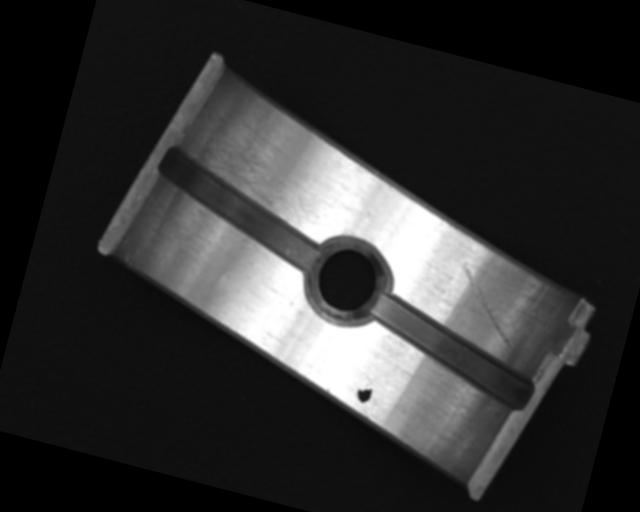blot: (355, 380, 375, 405)
gap: (144, 144, 337, 276), (358, 288, 549, 413)
hole: (298, 229, 397, 335)
nick: (445, 261, 530, 348)
scratch: (177, 107, 341, 232)
